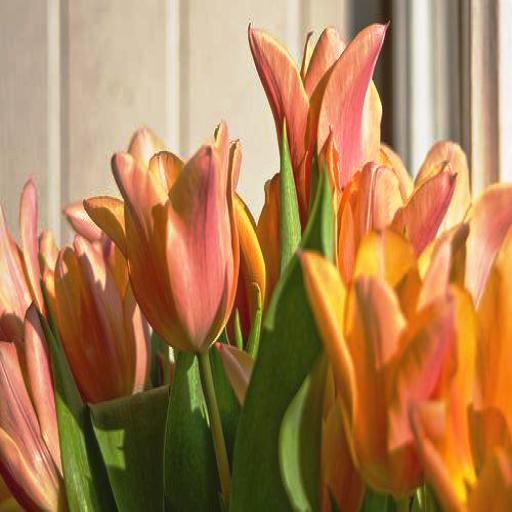tulip: (84, 125, 240, 355), (247, 14, 388, 194)
